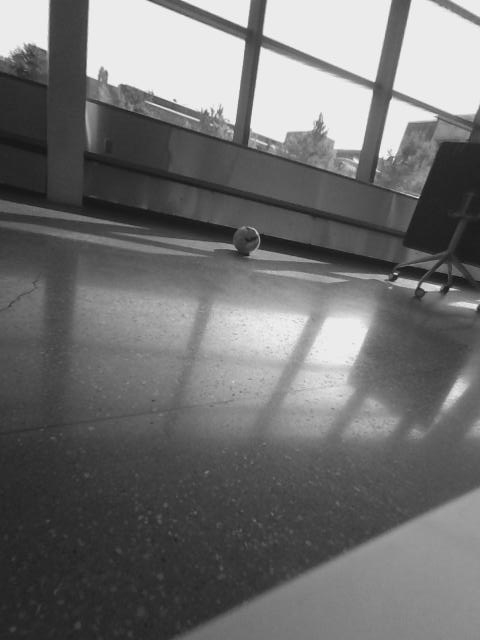ball: (232, 226, 262, 255)
